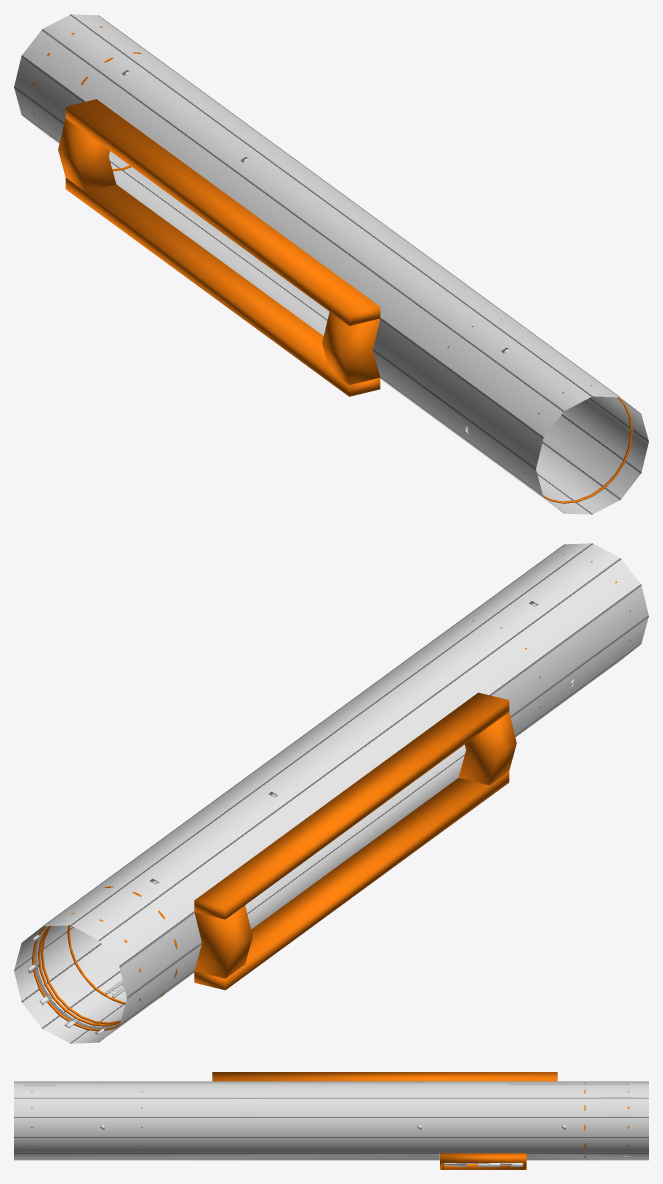
File: Block_0_window.fbx
3 renders of one model, top to bottom at view 1: azimuth 30°, elevation 25°; view 2: azimuth 150°, elevation 25°; view 3: azimuth 270°, elevation 25°, orthographic. The views are drawn at different scales.
Visible parts, largest first — view 1: Block_0_Window, Window Frame; view 2: Block_0_Window, Window Frame, Orange Steps; view 3: Block_0_Window, Window Frame, Cubes.
Boxes of the visible parts, box(x1,y1,x2,y2) form: Block_0_Window: box(14, 14, 648, 514); Window Frame: box(58, 99, 380, 396); Block_0_Window: box(14, 543, 648, 1043); Window Frame: box(194, 692, 516, 990); Orange Steps: box(32, 886, 177, 1031); Block_0_Window: box(14, 1081, 648, 1160); Window Frame: box(212, 1072, 557, 1081); Cubes: box(440, 1153, 526, 1169).
Bounding box in the file's own units: 130 × 102 × 800.
Materials: 2 (1 with a texture image).
